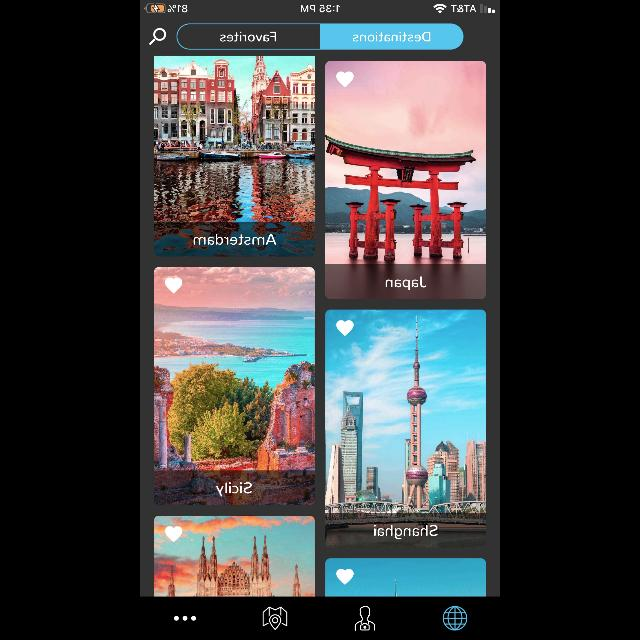icon: (263, 606, 287, 630), (443, 606, 467, 630), (355, 606, 375, 630), (148, 28, 166, 46), (336, 569, 354, 585), (336, 320, 354, 336), (336, 72, 354, 88), (165, 526, 182, 542), (165, 278, 182, 294), (174, 616, 196, 620)
image: (154, 267, 314, 505), (326, 310, 486, 548), (326, 62, 486, 298), (154, 56, 314, 256), (153, 516, 314, 596), (326, 558, 486, 596)
text: (194, 233, 276, 244), (374, 525, 438, 539), (386, 276, 426, 290), (216, 482, 252, 496)
textbutton: (176, 24, 320, 50), (320, 24, 462, 50)
uppertaskbar: (140, 0, 500, 14)
